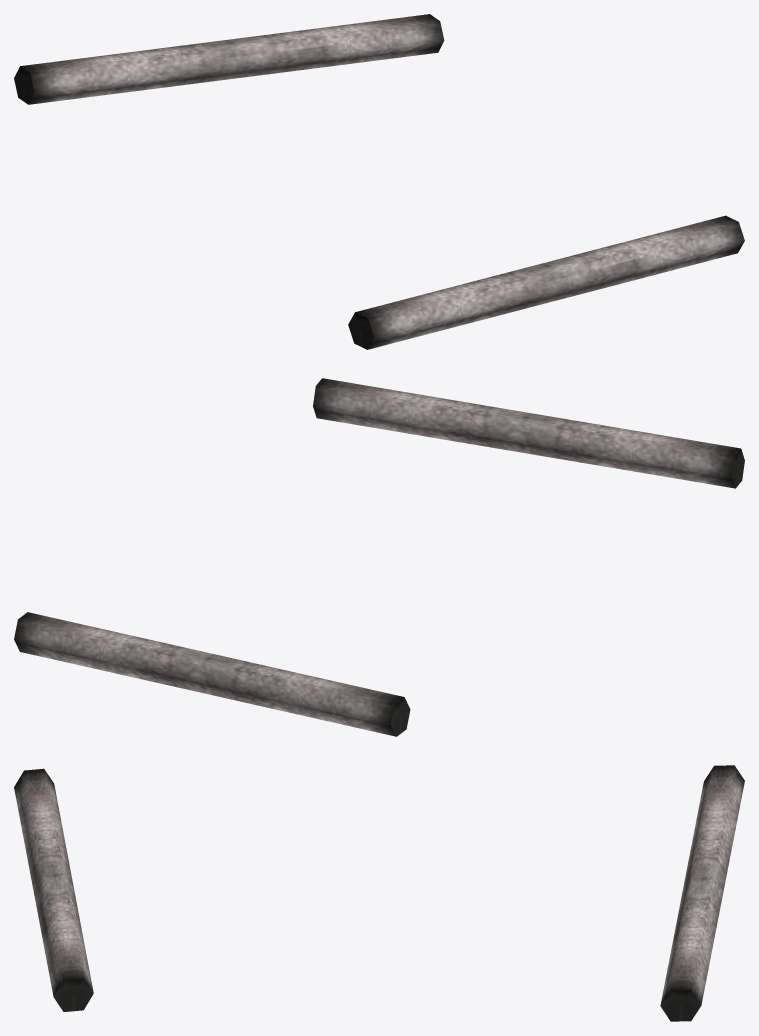
Rendered from ladder.glb.
3 renders of one model, top to bottom at view 1: azimuth 30°, elevation 25°; view 2: azimuth 150°, elevation 25°; view 3: azimuth 270°, elevation 25°, orthographic. The views are drawn at different scales.
Parts seen in each view (by area): view 1: ladder; view 2: ladder; view 3: ladder.
Part boxes in pixels (<box>): ladder: <box>14,14,744,349</box>; ladder: <box>14,378,744,736</box>; ladder: <box>14,765,744,1021</box>.
Size of the model in its own units: 24.9 by 3.49 by 38.24.
2 materials, 2 textured.
